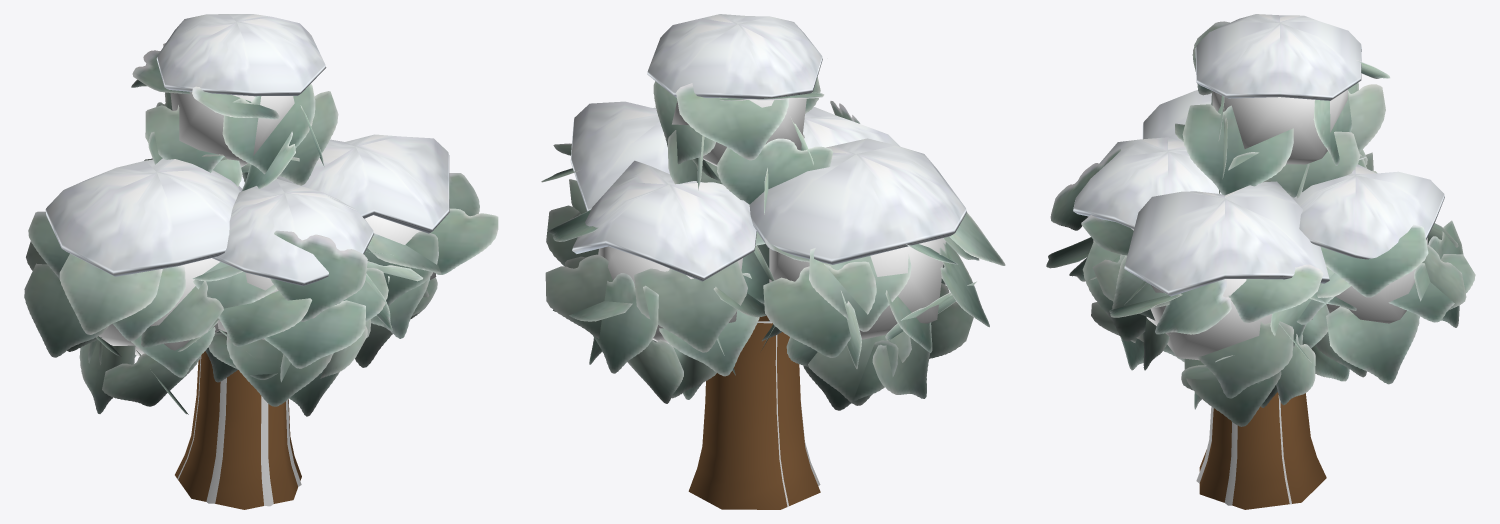
Rendered from tree-round-winter.lod1.glb.
The picture shows the model from 3 angles, left to right: view 1: azimuth 30°, elevation 25°; view 2: azimuth 150°, elevation 25°; view 3: azimuth 270°, elevation 25°; orthographic projection. The views are drawn at different scales.
Parts seen in each view (by area): view 1: Crown, Trunk, Hull, Stem; view 2: Crown, Trunk, Hull; view 3: Crown, Hull, Trunk, Stem.
Boxes of the visible parts, x1,y1,x2,y2 form: Crown: (24,14,498,416); Trunk: (175,351,301,509); Hull: (99,91,436,356); Stem: (177,355,301,506); Crown: (541,14,1005,410); Trunk: (688,315,820,509); Hull: (598,98,945,343); Crown: (1046,14,1475,426); Hull: (1093,89,1427,360); Trunk: (1199,392,1326,509); Stem: (1196,395,1291,505).
Size of the model in its own units: 2.87 by 2.86 by 2.52.
4 materials, 1 textured.
